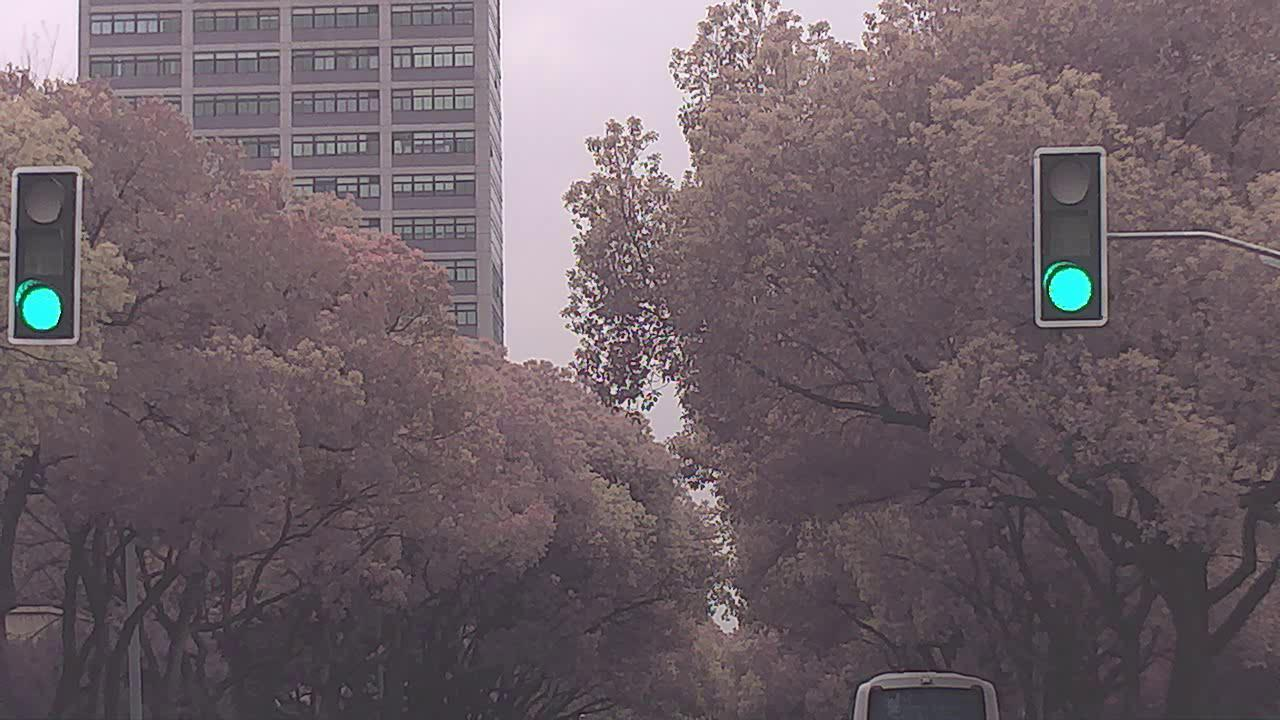traffic_light: (1040, 152, 1111, 323), (16, 170, 80, 348)
